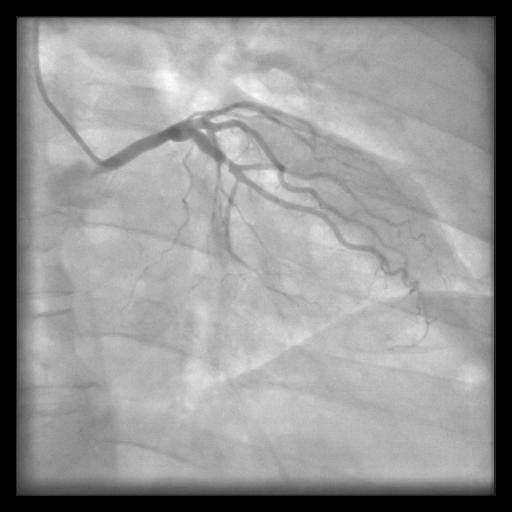Stenosis: (221, 151, 233, 169)
